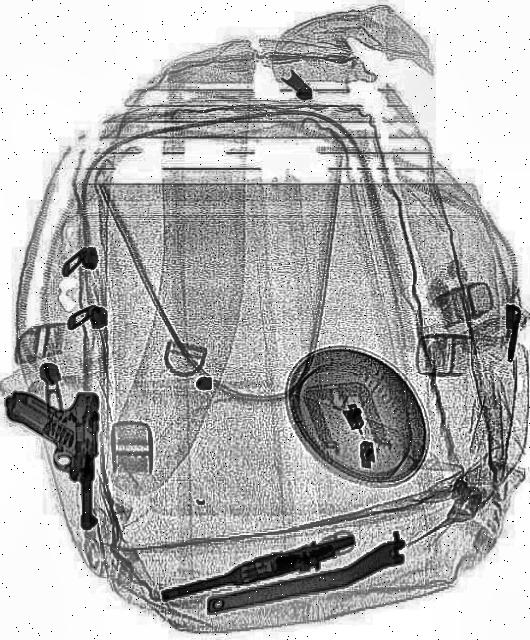Gun: (162, 534, 362, 610), (5, 391, 104, 534)
